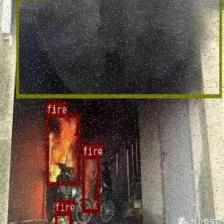smoke: (15, 0, 221, 97)
